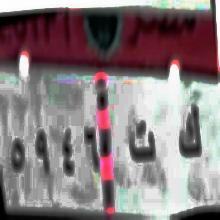4: (60, 123, 75, 181)
5: (10, 137, 26, 177)
6: (81, 121, 100, 173)
9: (34, 122, 50, 181)
kaaf: (177, 104, 203, 162)
taa: (128, 119, 156, 170)
